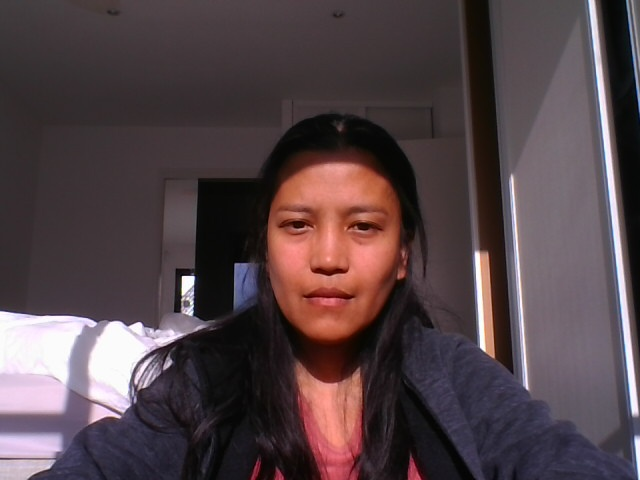face: (266, 161, 407, 343)
